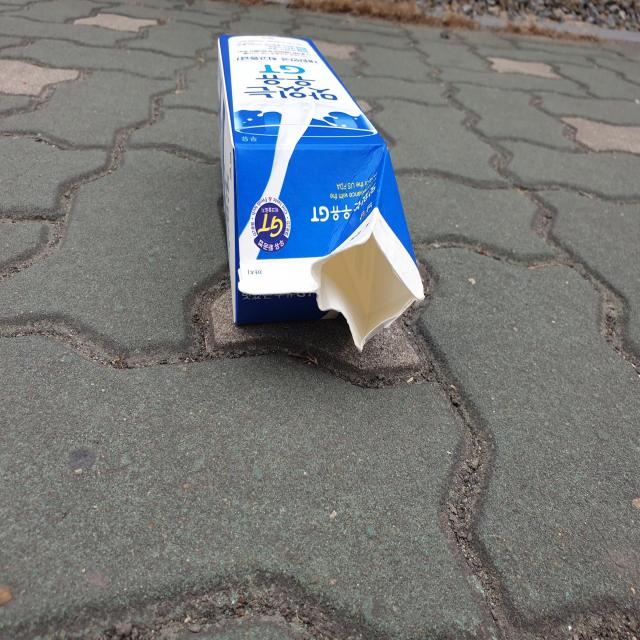paperpack: (218, 35, 424, 350)
